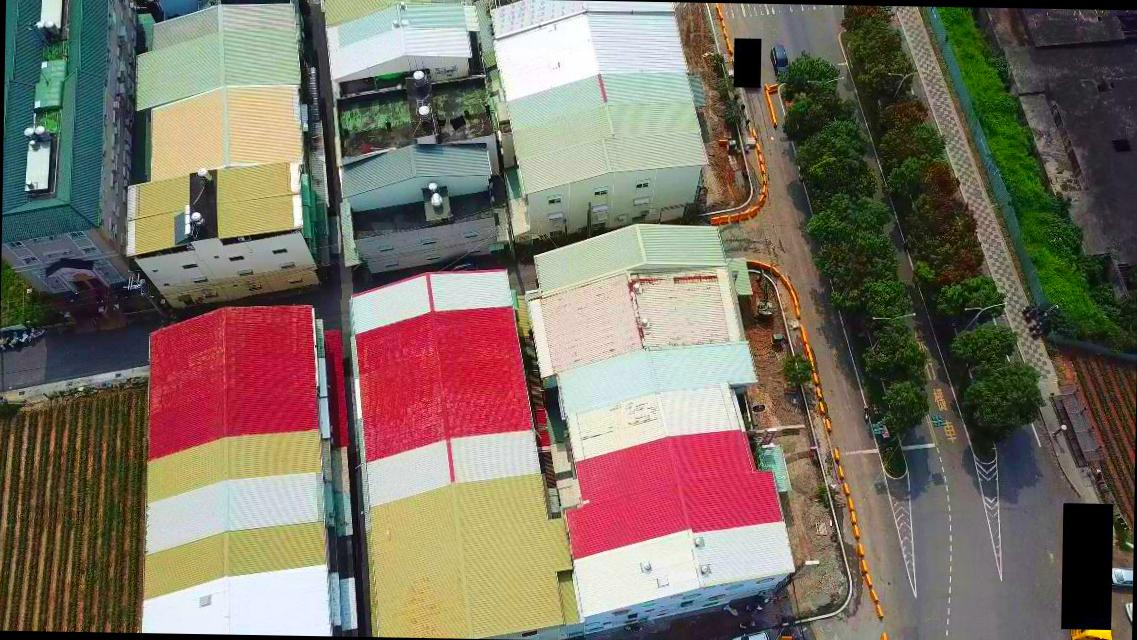vehicle: (769, 42, 793, 80), (1106, 564, 1132, 588), (729, 625, 771, 639)
